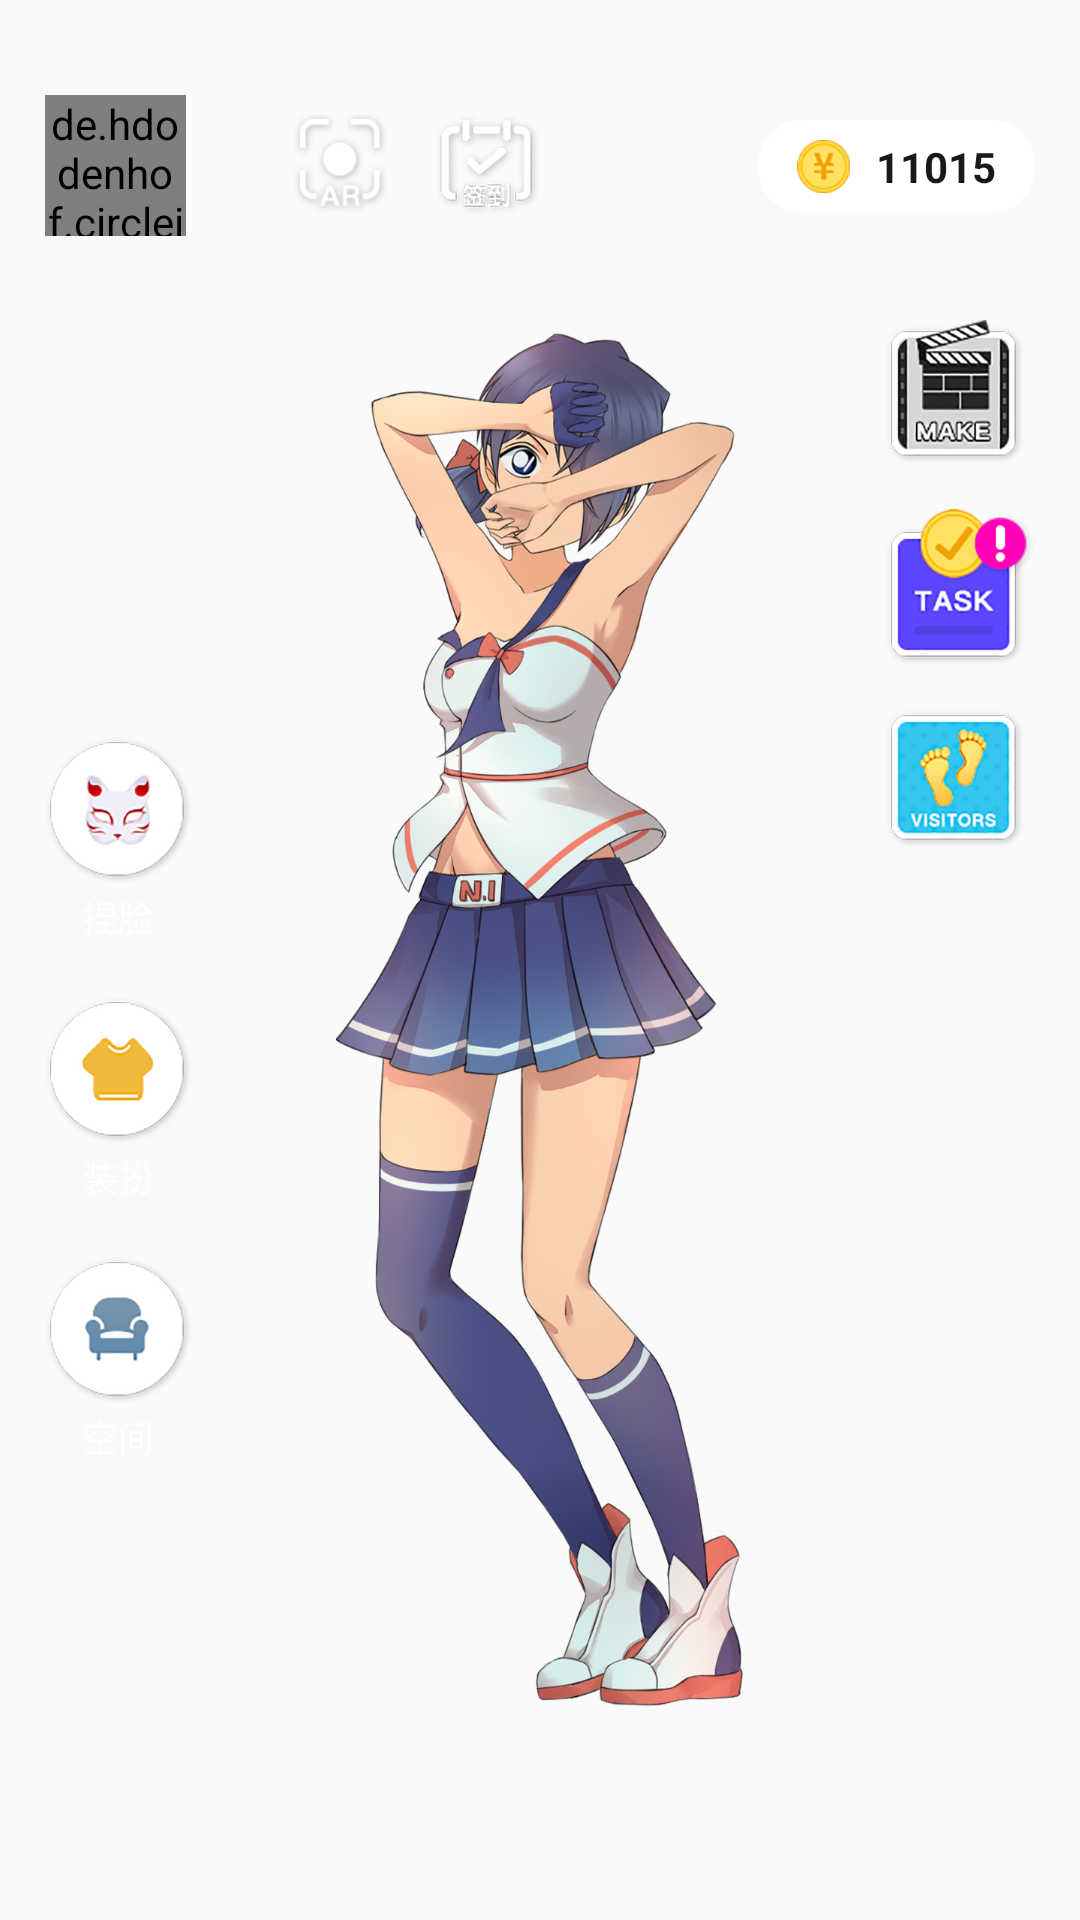

Point at icon controls on the screen. Image size 1080 × 1920, points as [x,y].
jinbi: [823,166]
movie: [954,389]
